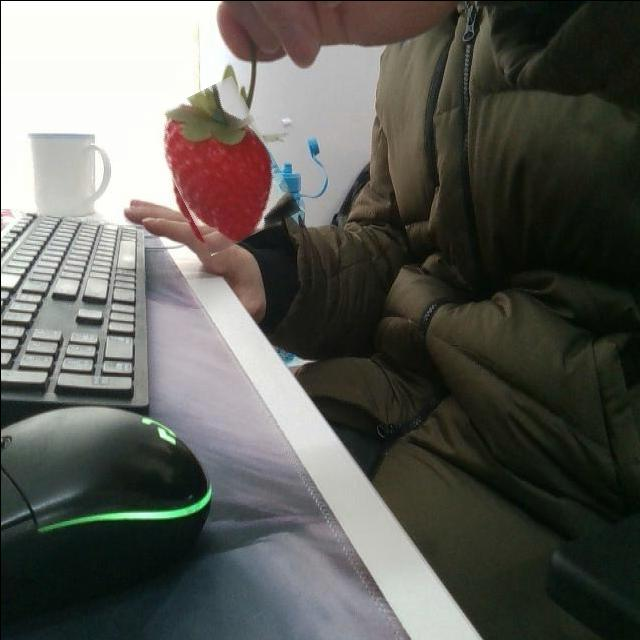strawberry: (157, 82, 286, 248)
